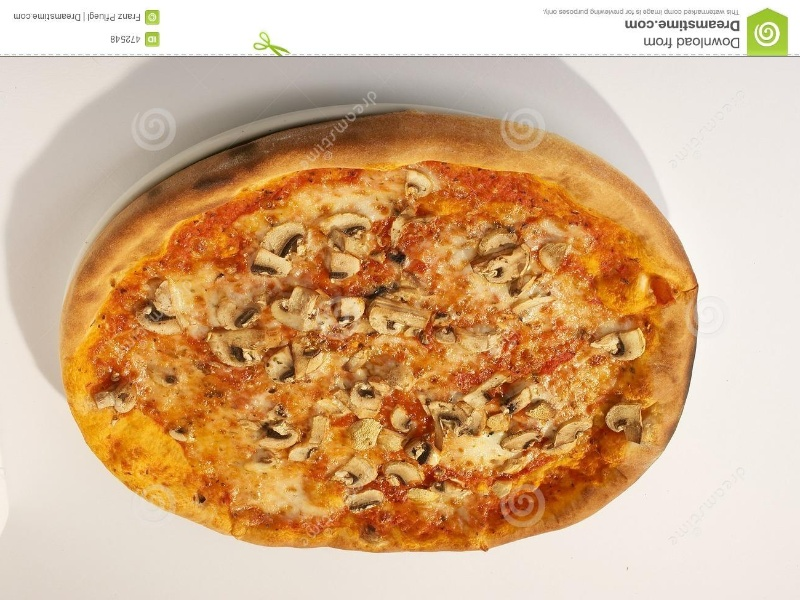champignon: (587, 322, 657, 369), (269, 285, 327, 338), (474, 242, 534, 291), (209, 285, 269, 334), (313, 206, 383, 244), (129, 297, 190, 340), (207, 336, 271, 372), (603, 401, 652, 448), (340, 372, 390, 416), (335, 451, 385, 491), (251, 418, 305, 454), (321, 248, 367, 289), (266, 221, 311, 261), (383, 458, 427, 489), (400, 168, 438, 203)
